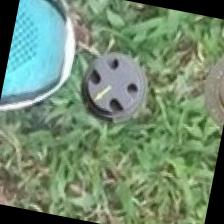M14: (74, 48, 154, 128)
